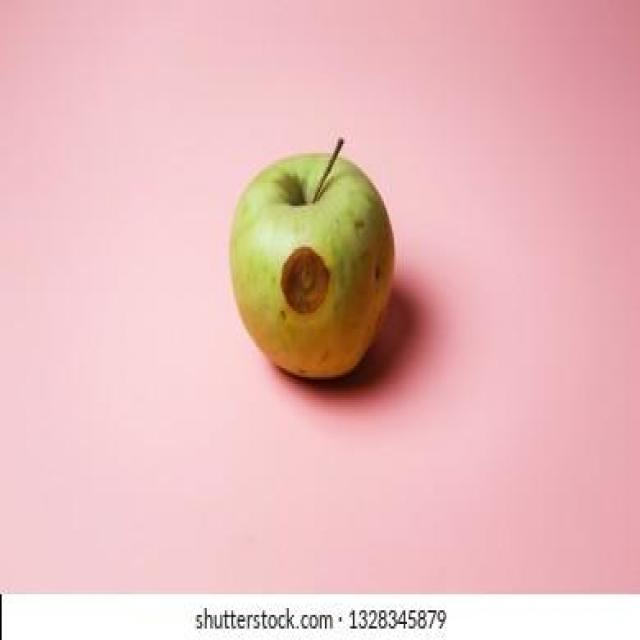Rotten: (236, 153, 391, 376)
